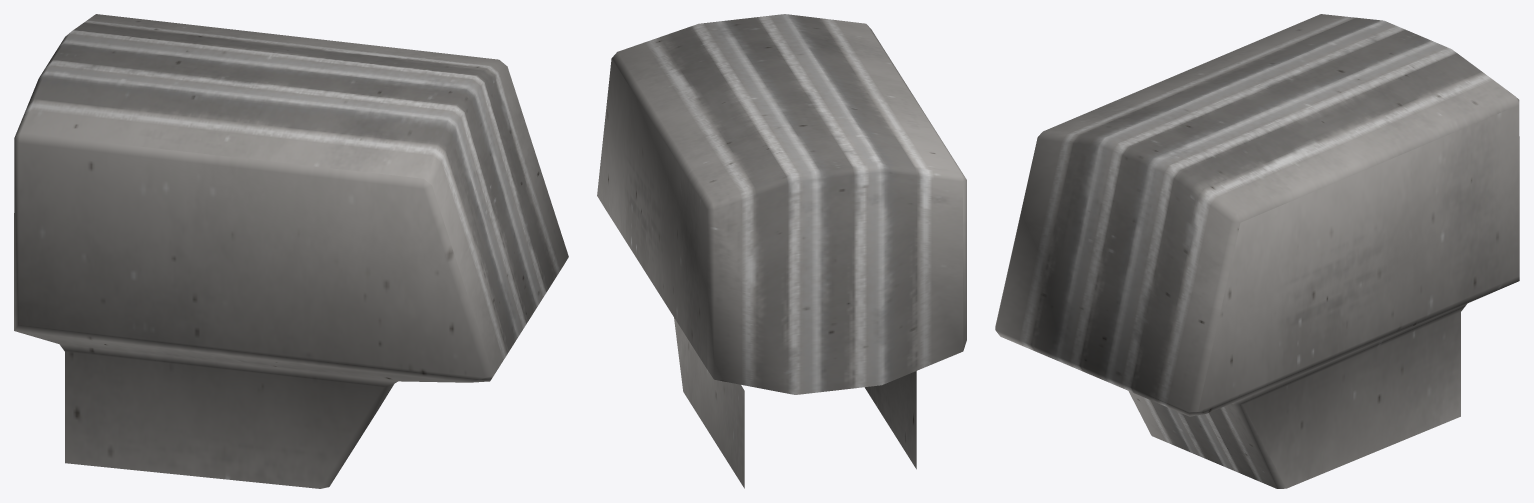
File: SM_Corner_Roof_02a.fbx
3 views of the same model, side by side, from view 1: azimuth 30°, elevation 25°; view 2: azimuth 150°, elevation 25°; view 3: azimuth 270°, elevation 25° (orthographic). The views are drawn at different scales.
Visible parts, largest first — view 1: SM_Corner_Roof_02a; view 2: SM_Corner_Roof_02a; view 3: SM_Corner_Roof_02a.
Part boxes in pixels (bbox=[...]): SM_Corner_Roof_02a: bbox=[14, 14, 568, 488]; SM_Corner_Roof_02a: bbox=[597, 14, 966, 488]; SM_Corner_Roof_02a: bbox=[995, 14, 1519, 488].
Bounding box in the file's own units: 245 × 245 × 177.
